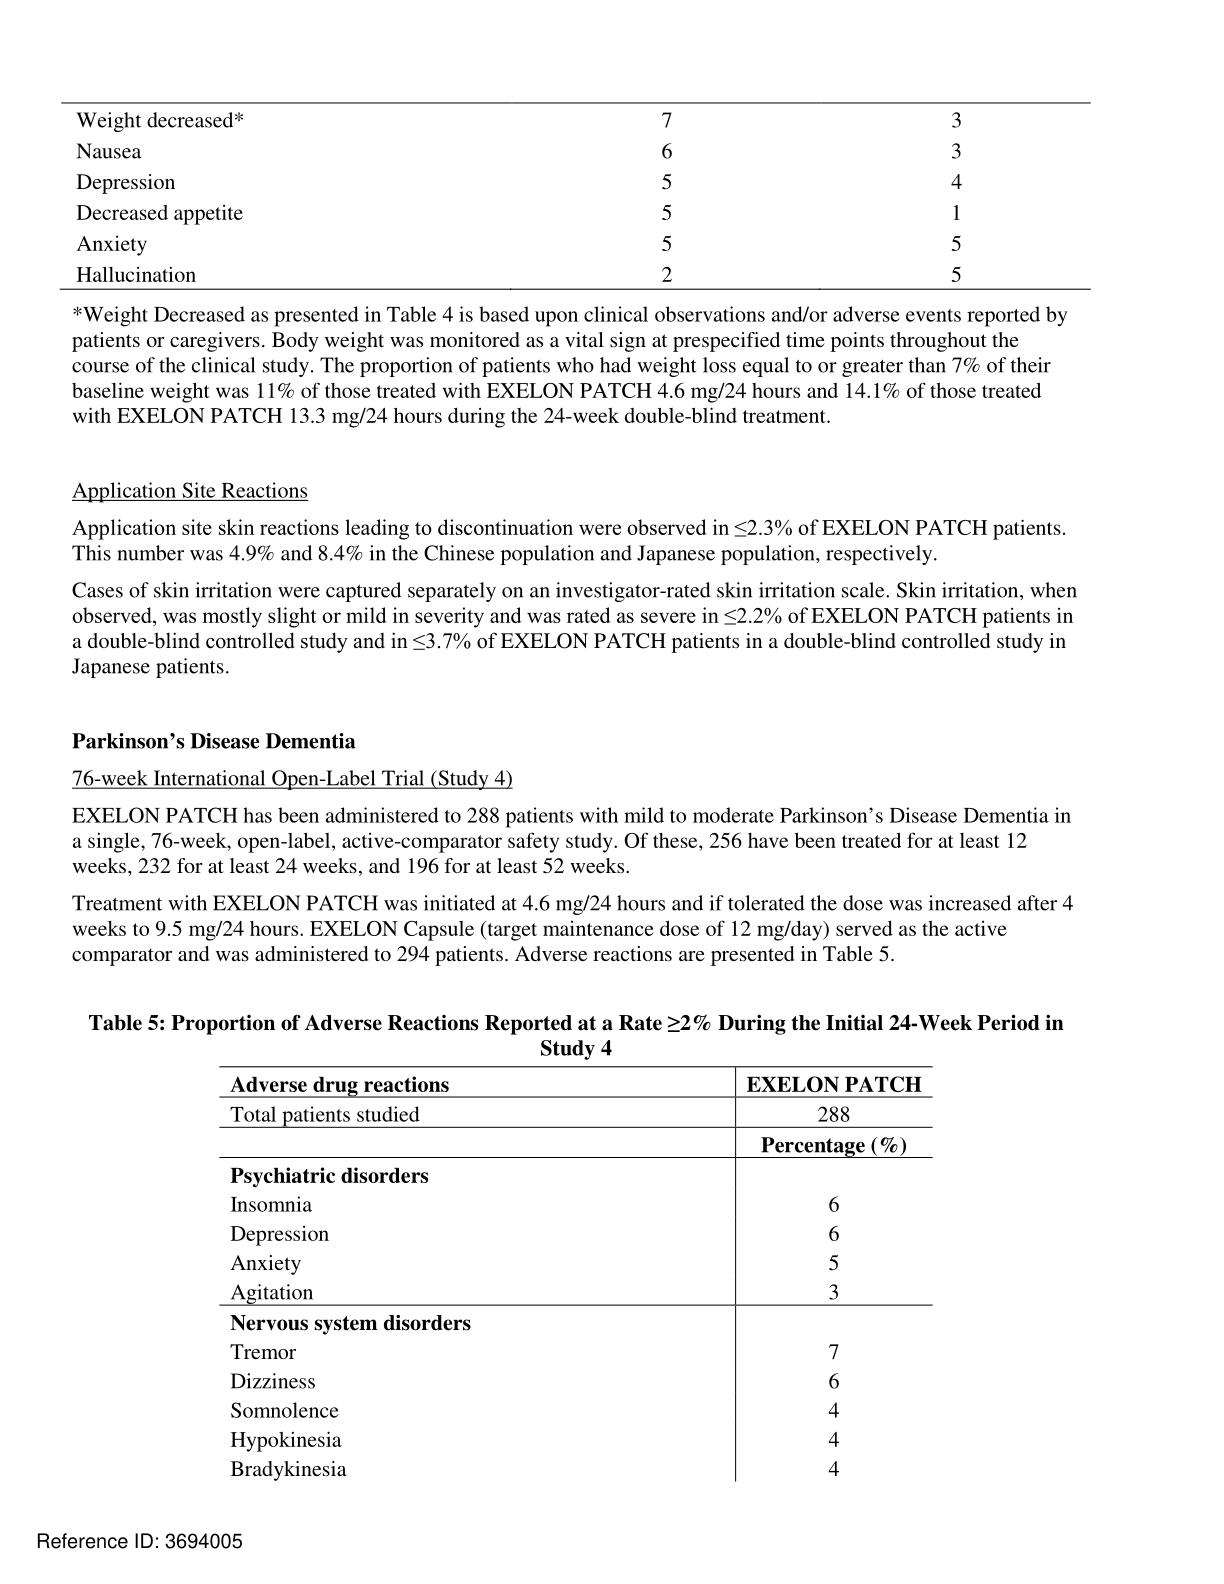partial_lined: (217, 1065, 937, 1482), (59, 102, 1089, 291)
